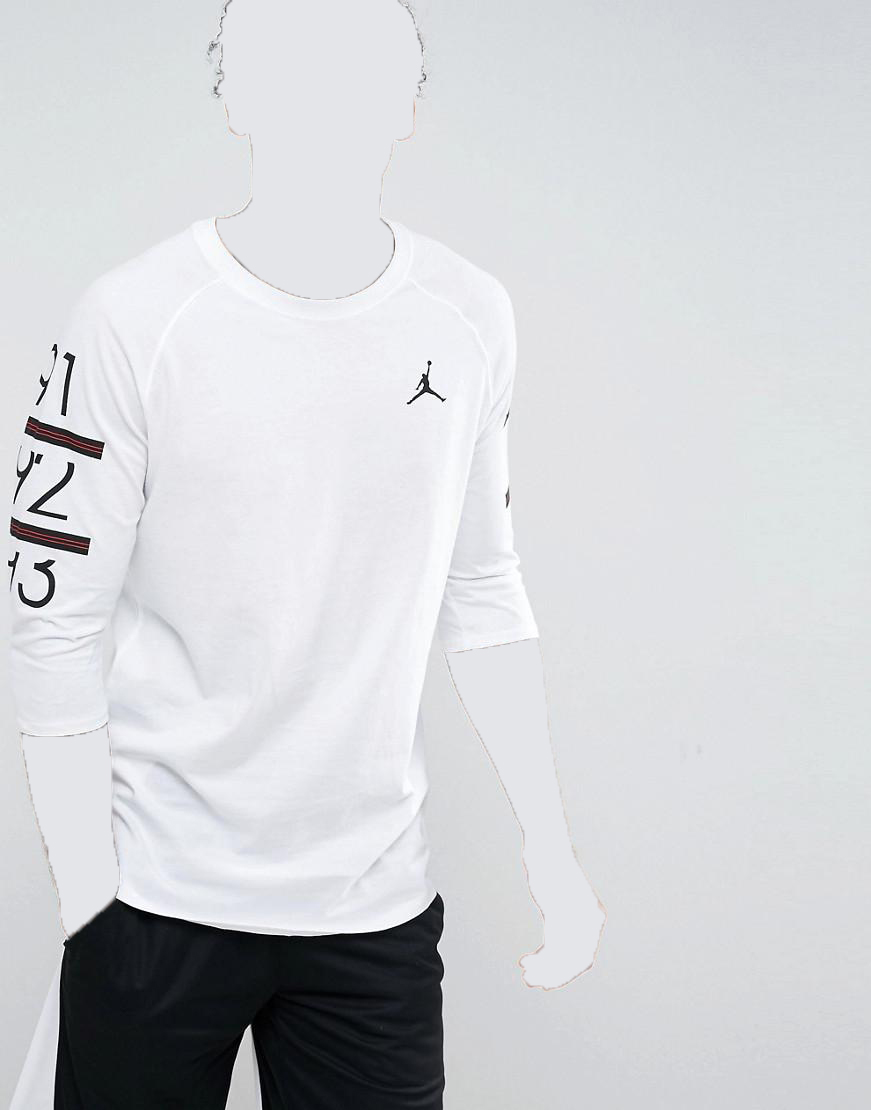teeshirt: (5, 210, 544, 993)
